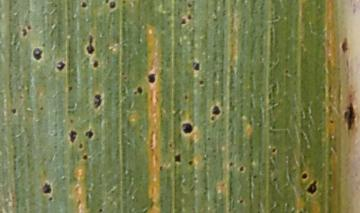tarspot: (29, 44, 46, 62), (305, 177, 322, 195), (37, 181, 56, 195), (90, 91, 104, 110), (84, 34, 96, 56), (180, 119, 194, 137), (82, 126, 96, 142), (190, 59, 204, 74), (68, 128, 79, 146), (145, 72, 159, 86), (209, 102, 222, 117), (55, 60, 67, 72), (326, 115, 336, 127), (135, 84, 144, 97), (9, 105, 18, 118), (77, 1, 91, 9), (20, 25, 28, 39), (172, 153, 183, 163), (80, 152, 91, 162), (269, 145, 279, 156), (66, 83, 75, 95), (108, 1, 118, 11), (186, 158, 196, 168), (91, 60, 102, 69), (300, 171, 309, 181), (237, 164, 246, 174), (197, 78, 206, 88), (236, 196, 245, 206), (227, 158, 235, 169), (186, 11, 194, 22), (96, 205, 106, 213), (180, 18, 187, 27)
